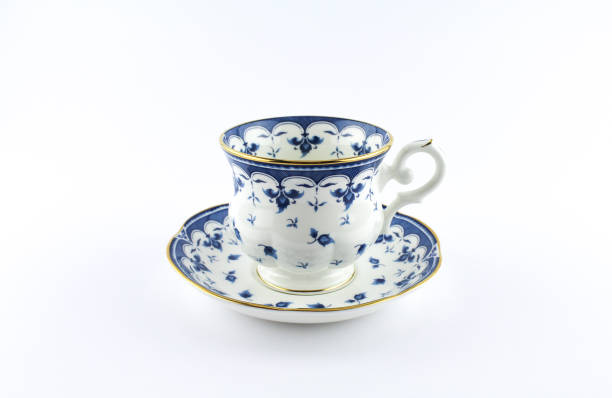cup: (7, 4, 567, 350)
